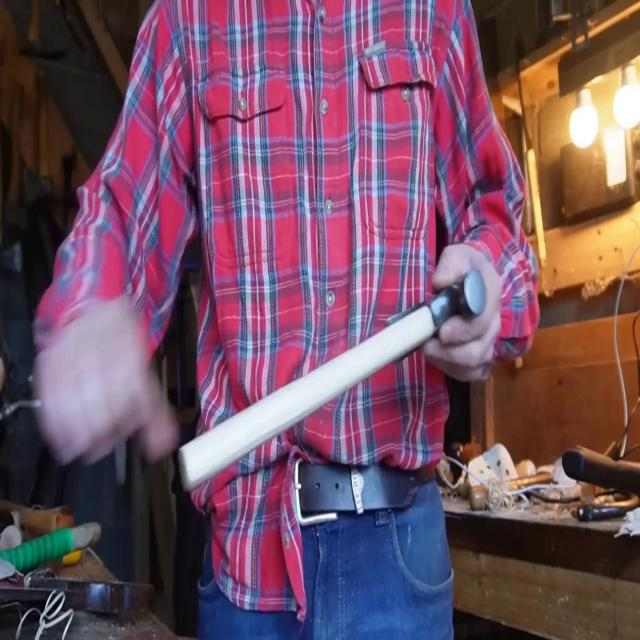hammer: (179, 270, 484, 491)
